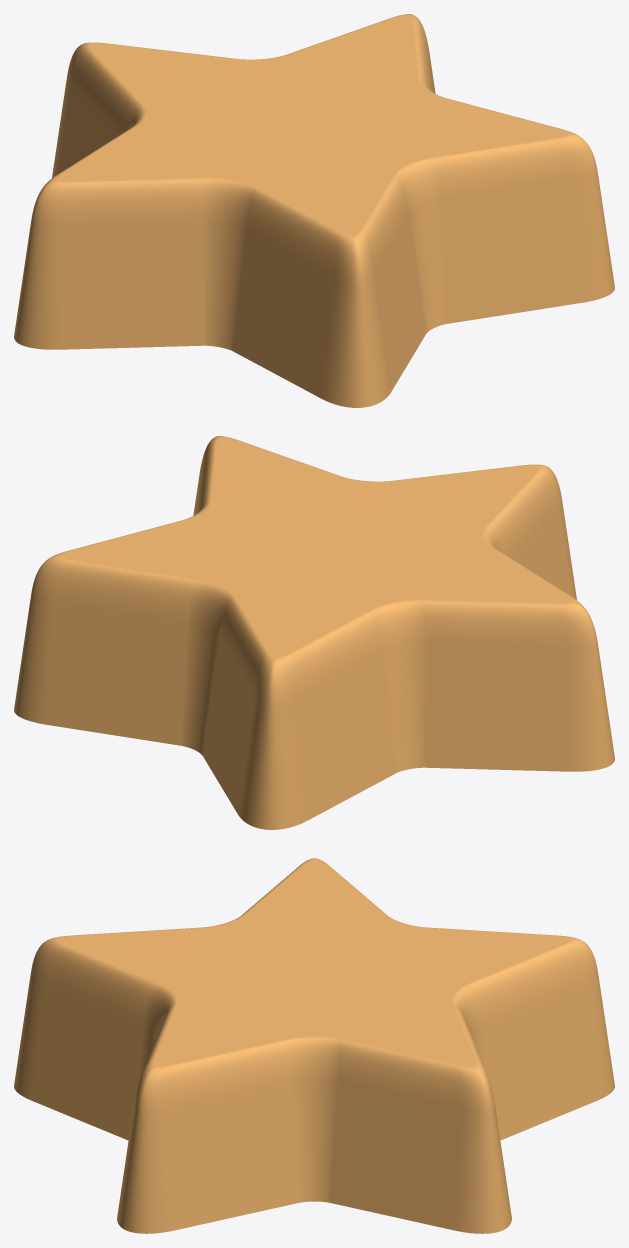
File: PBR - Metallic Roughness.gltf
3 views of the same model, one above another, from view 1: azimuth 30°, elevation 25°; view 2: azimuth 150°, elevation 25°; view 3: azimuth 270°, elevation 25° (orthographic). The views are drawn at different scales.
Parts seen in each view (by area): view 1: Star001; view 2: Star001; view 3: Star001.
Boxes of the visible parts, <box> form: Star001: <box>14,14,614,407</box>; Star001: <box>14,436,614,829</box>; Star001: <box>14,858,614,1233</box>.
Size of the model in its own units: 69.39 by 20 by 72.61.
1 material, 1 textured.
